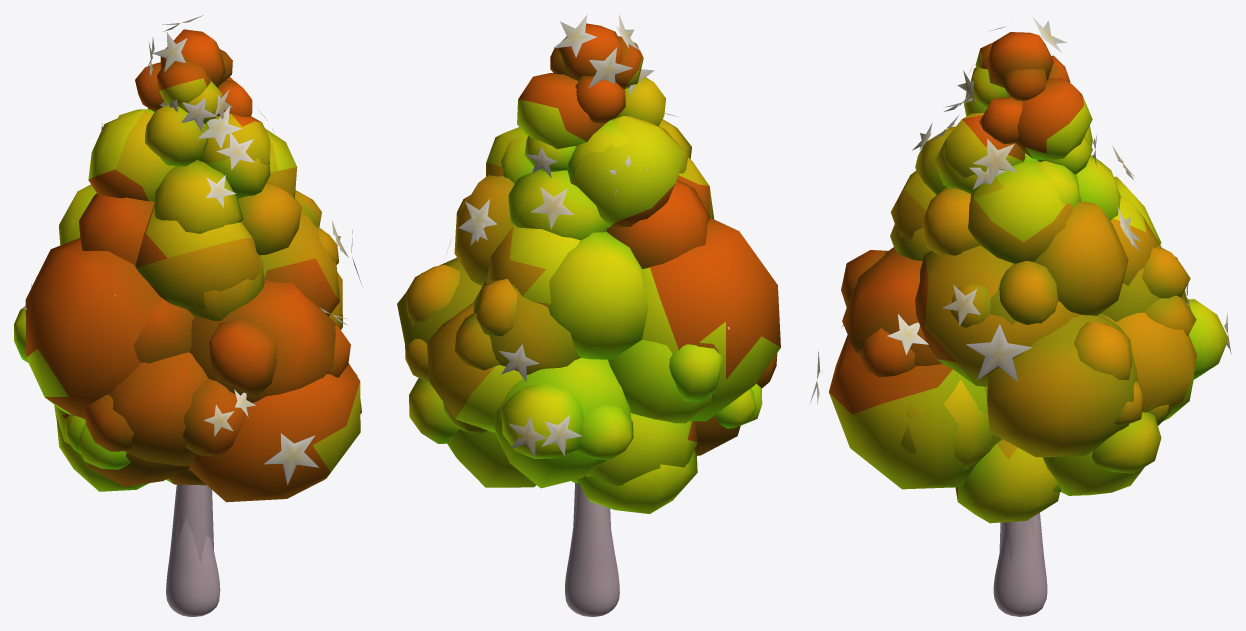
File: candyfloss_tree.glb
3 renders of one model, left to right at view 1: azimuth 30°, elevation 25°; view 2: azimuth 150°, elevation 25°; view 3: azimuth 270°, elevation 25°, orthographic.
Parts seen in each view (by area): view 1: near_fuzz, far_floss, near, far; view 2: near_fuzz, far_floss, near, far; view 3: near_fuzz, far_floss, near, far.
Boxes of the visible parts, x1,y1,x2,y2 form: near_fuzz: [14, 29, 361, 491]; far_floss: [25, 57, 360, 502]; near: [22, 32, 348, 616]; far: [146, 15, 361, 564]; near_fuzz: [397, 23, 777, 513]; far_floss: [427, 36, 780, 485]; near: [457, 14, 729, 616]; far: [444, 14, 633, 536]; near_fuzz: [841, 32, 1228, 495]; far_floss: [829, 43, 1196, 523]; near: [841, 27, 1231, 616]; far: [810, 17, 1066, 560].
Bounding box in the file's own units: 6.2 × 10.75 × 6.9.
